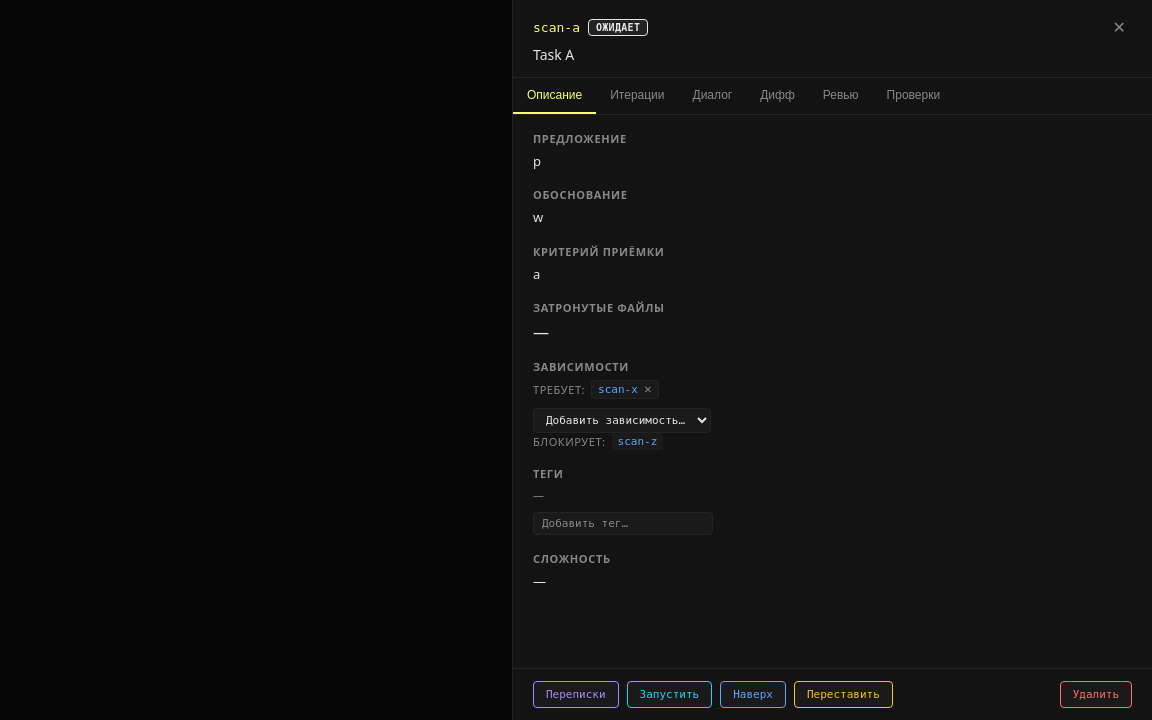
Test: TaskDrawer dependencies editor › a 400 (cycle) shows the inline error and does not close the drawer
The image size is (1152, 720).
Select "scan-y — scan-y" in the dropdown with test id "dep-add-select": [622, 421] box [533, 408, 711, 433]
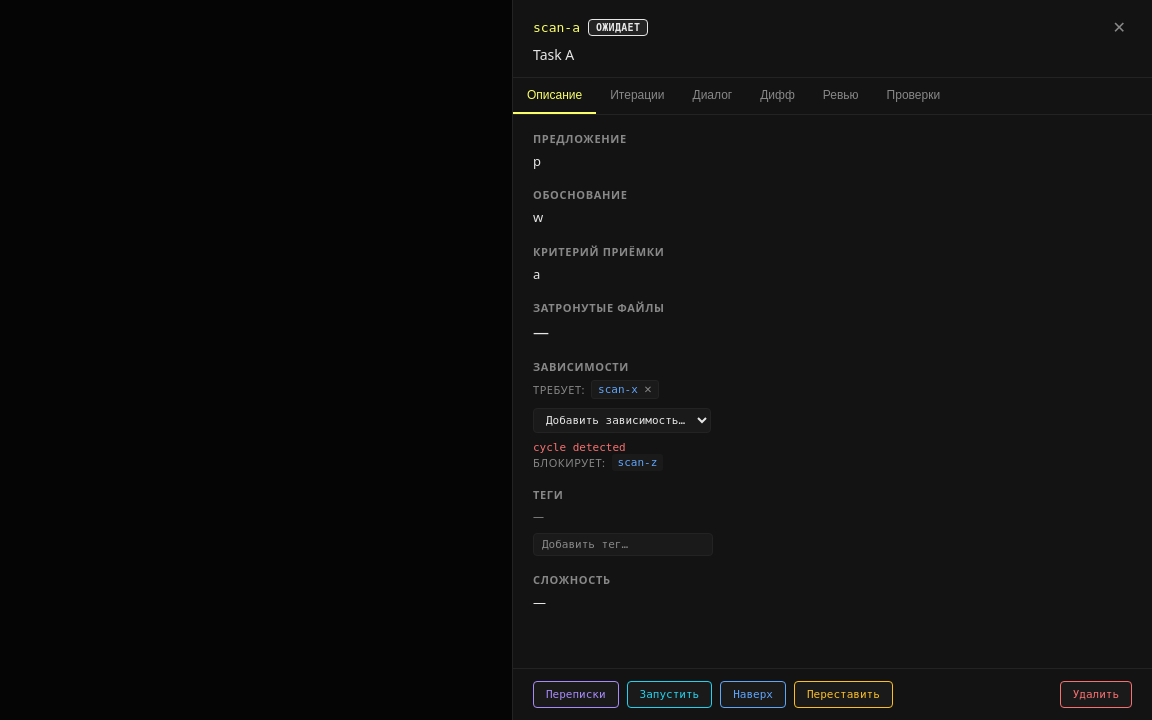
Now the text with test id "dep-error" reads "cycle detected", box [533, 441, 626, 454]
